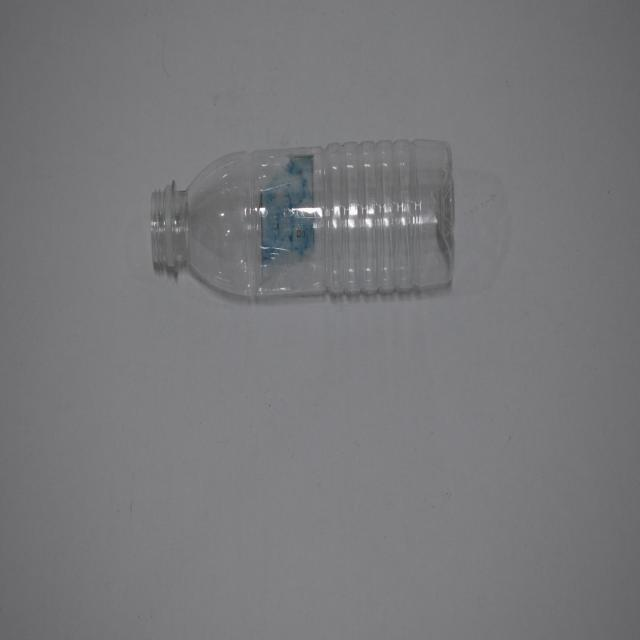bottle: (140, 114, 485, 331)
